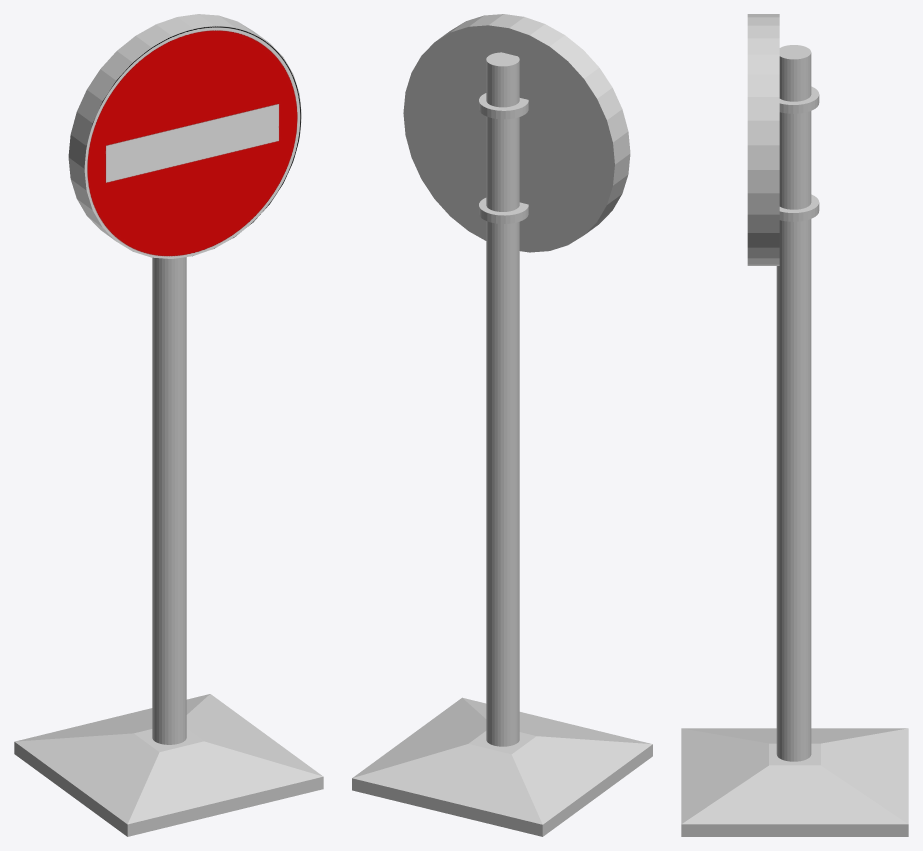
File: girilmez.dae
3 views of the same model, side by side, from view 1: azimuth 30°, elevation 25°; view 2: azimuth 150°, elevation 25°; view 3: azimuth 270°, elevation 25° (orthographic). The views are drawn at different scales.
Visible parts, largest first — view 1: Cylinder.001; view 2: Cylinder.001; view 3: Cylinder.001.
Boxes of the visible parts, x1,y1,x2,y2 form: Cylinder.001: (14, 14, 323, 836); Cylinder.001: (352, 14, 652, 836); Cylinder.001: (681, 14, 908, 836).
Size of the model in its own units: 0.83 by 0.7483 by 2.77.
2 materials, 1 textured.
